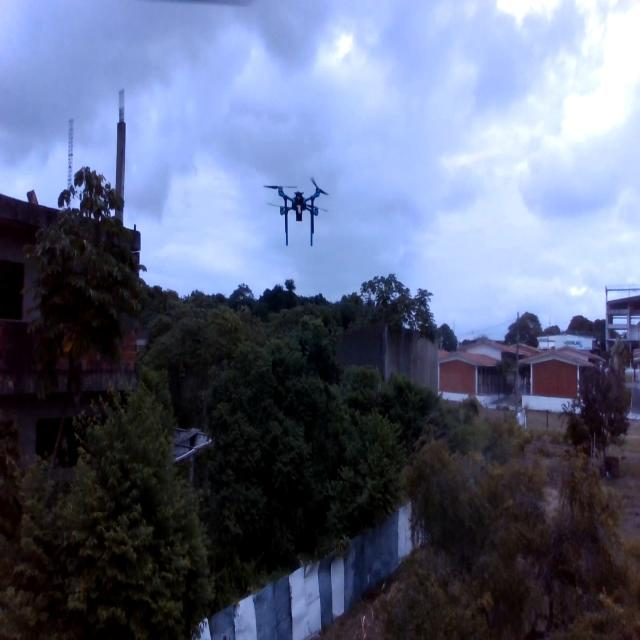-uav-: (250, 150, 344, 266)
